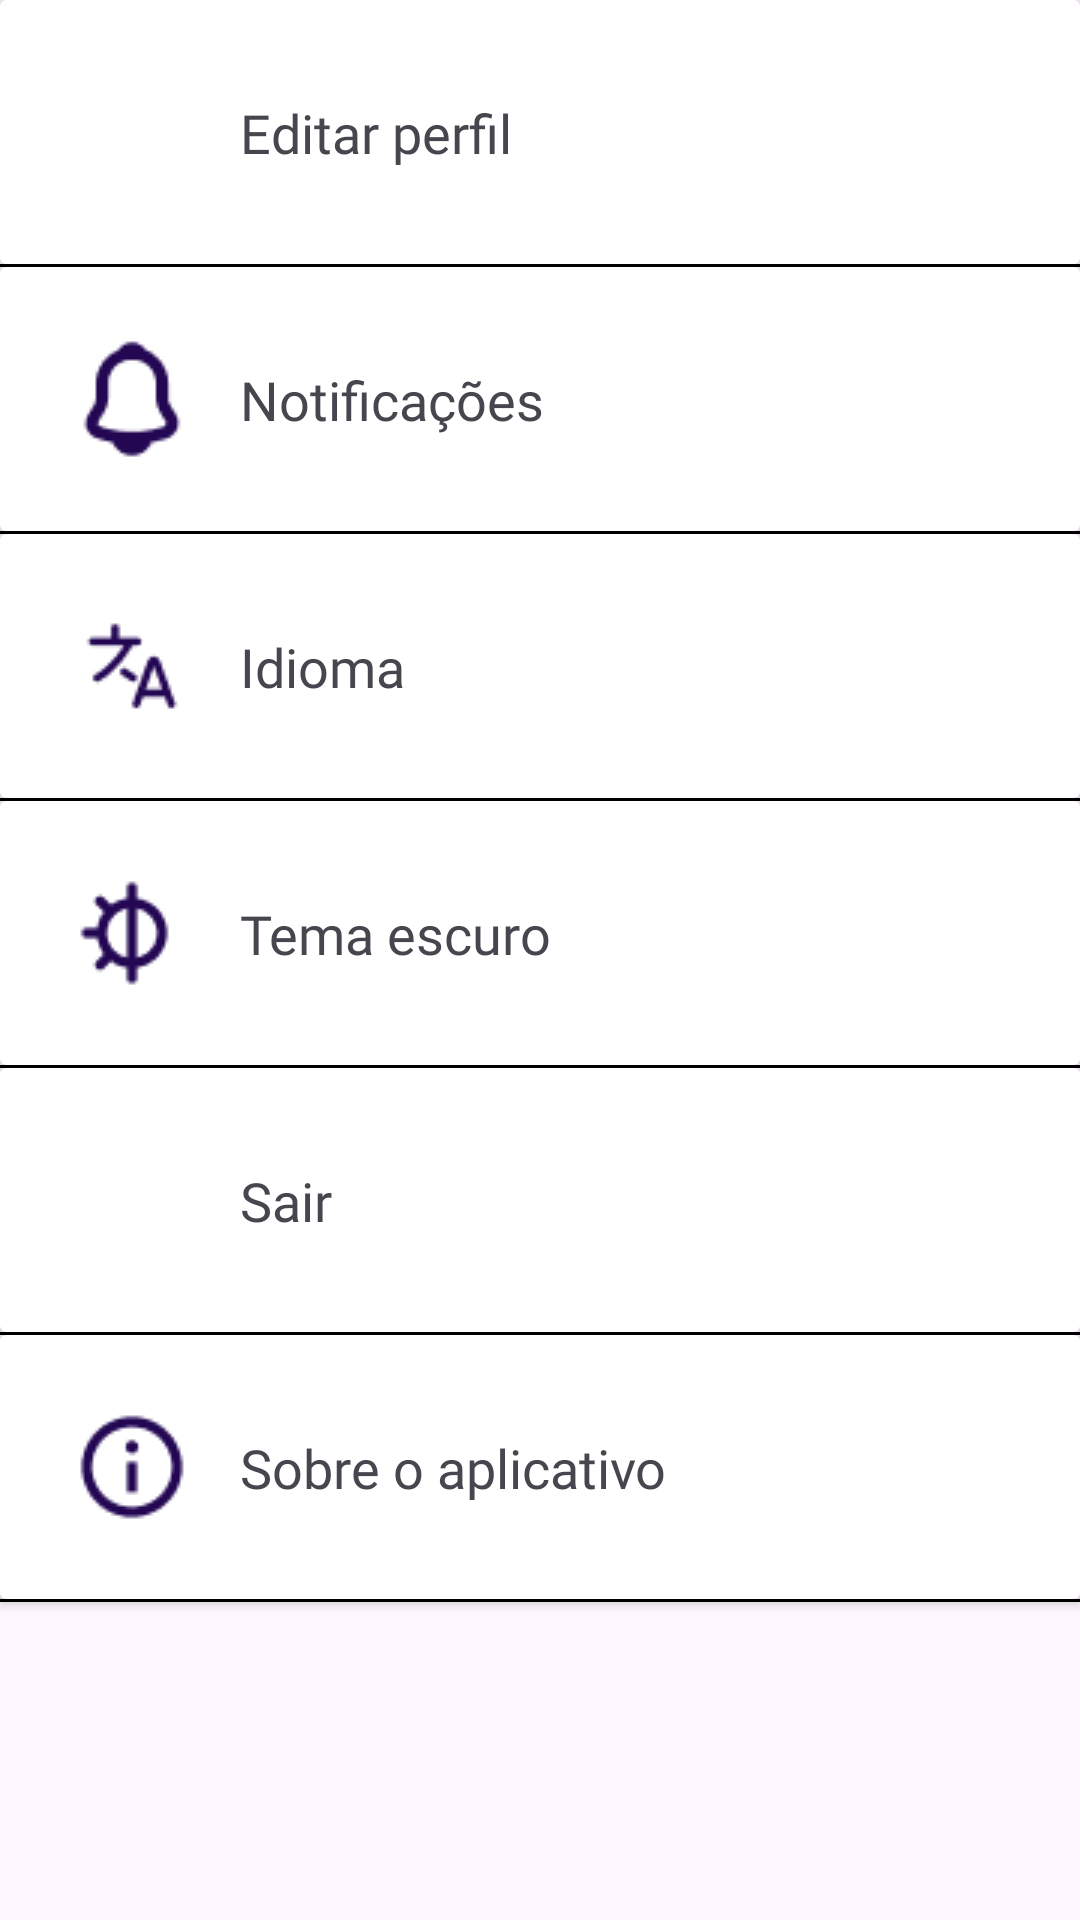

Point at icon controls on the screen. Image size 1080px x 1920px, points as (x,y).
info mode: (132,1467)
language mode: (132,666)
notification mode: (132,399)
